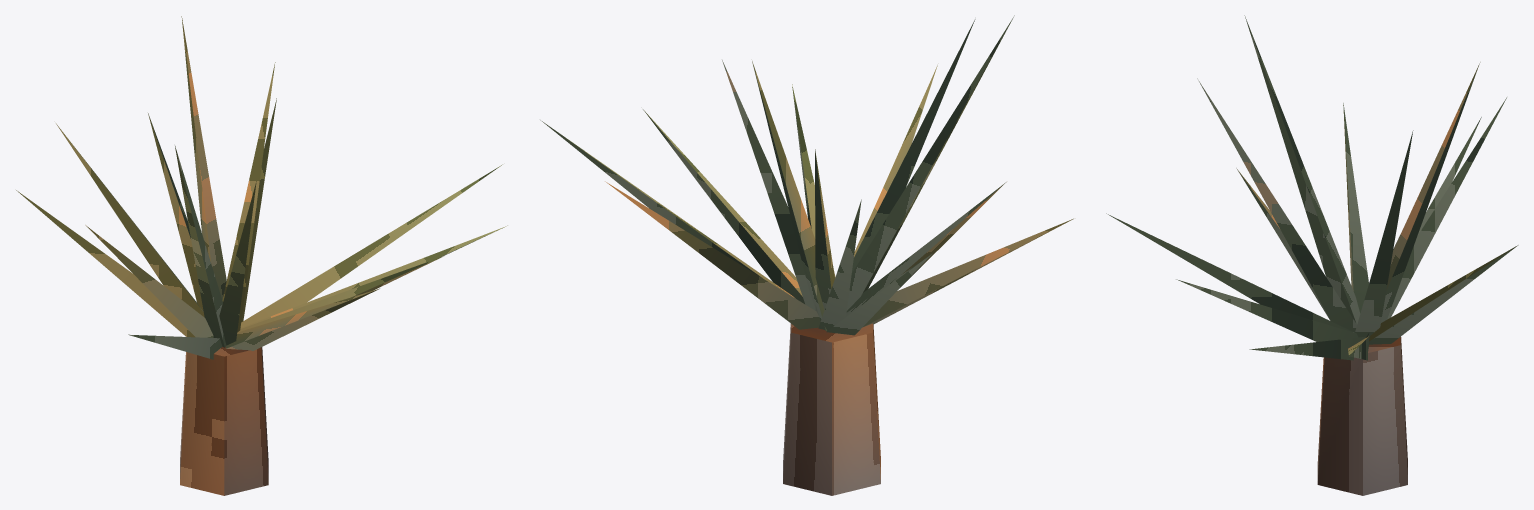
Rendered from wland.yucca__no_stalk.glb.
3 renders of one model, left to right at view 1: azimuth 30°, elevation 25°; view 2: azimuth 150°, elevation 25°; view 3: azimuth 270°, elevation 25°, orthographic. The views are drawn at different scales.
Visible parts, largest first — view 1: kit_leaves, kit_trunk; view 2: kit_leaves, kit_trunk; view 3: kit_leaves, kit_trunk.
Part boxes in pixels (bbox=[...]): kit_leaves: bbox=[16, 16, 507, 359]; kit_trunk: bbox=[180, 347, 268, 495]; kit_leaves: bbox=[540, 15, 1073, 335]; kit_trunk: bbox=[783, 323, 880, 495]; kit_leaves: bbox=[1106, 15, 1518, 360]; kit_trunk: bbox=[1317, 337, 1407, 495].
Size of the model in its own units: 1.17 by 1.07 by 0.9535.
2 materials, 2 textured.
